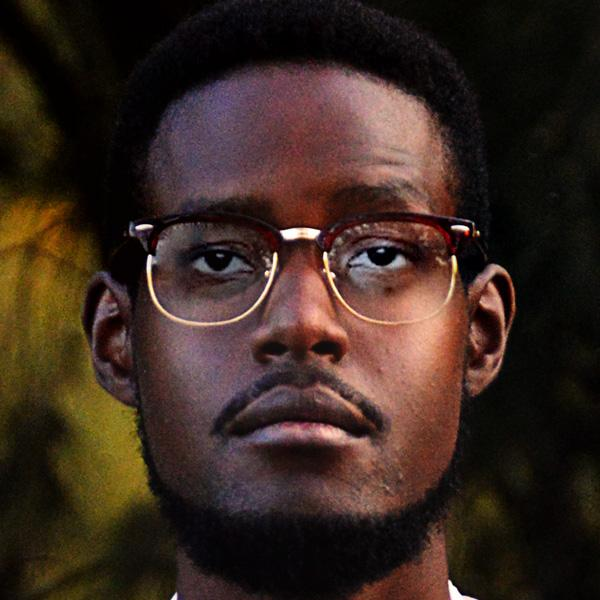Eyes: (174, 231, 262, 285), (339, 233, 424, 284)
